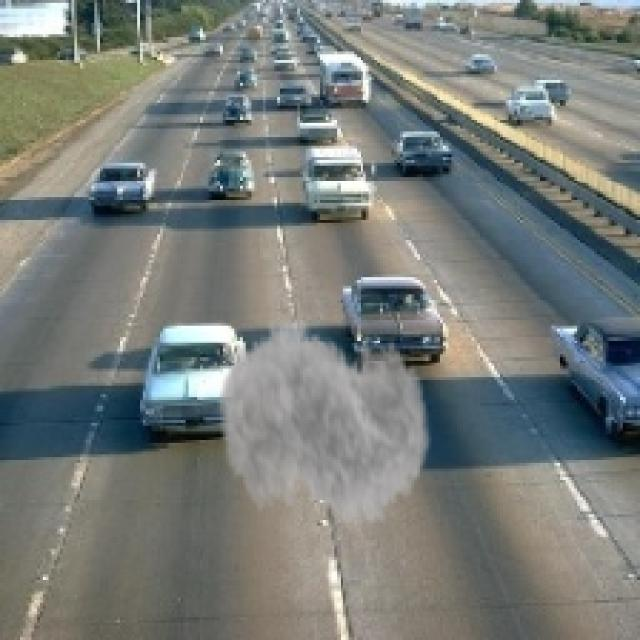smoke: (217, 297, 432, 554)
